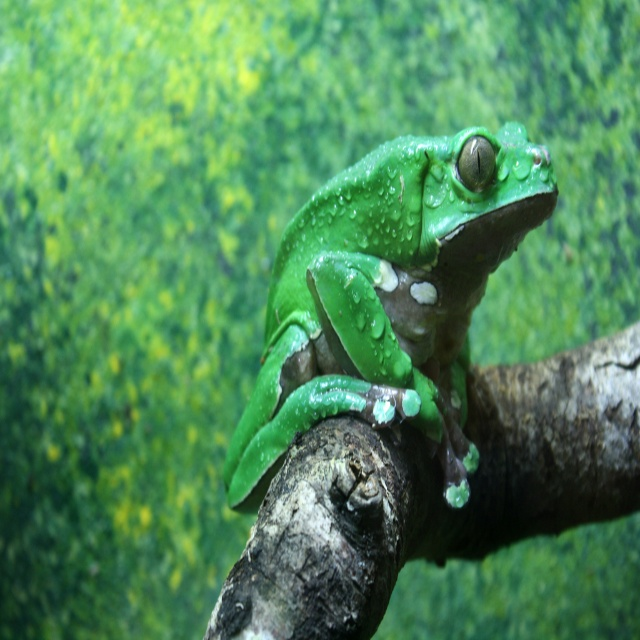Frog: (223, 118, 558, 510)
